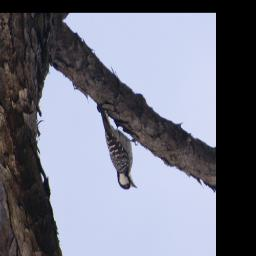Woodpecker: (94, 97, 142, 197)
